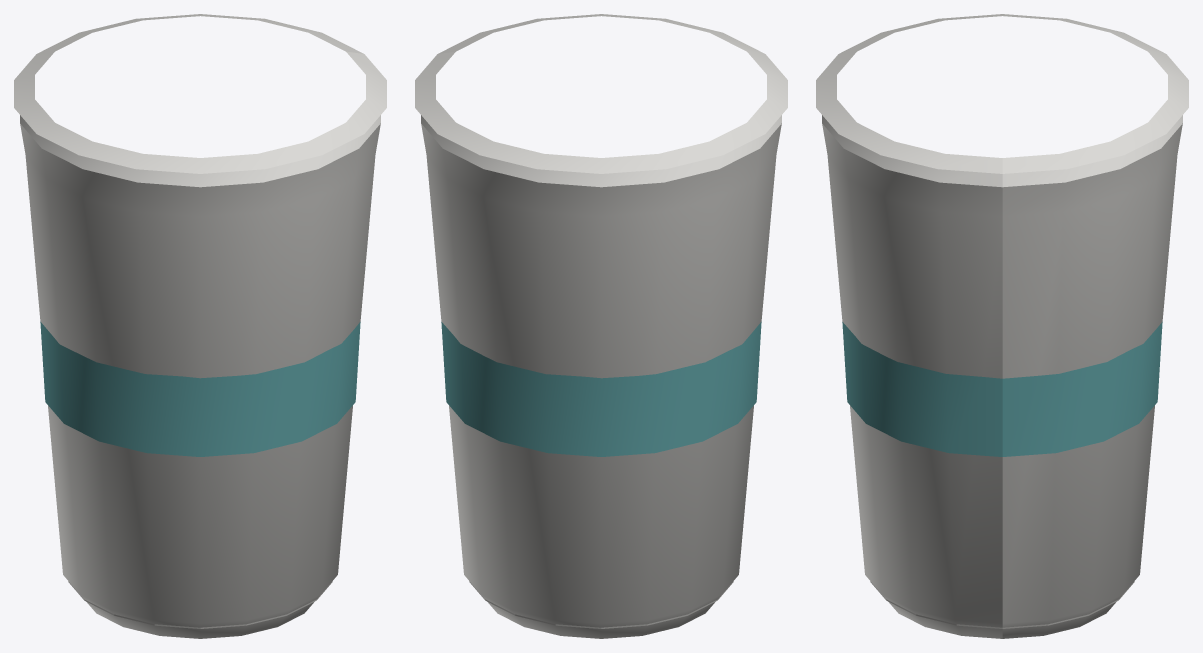
File: cup.glb
The picture shows the model from 3 angles, left to right: view 1: azimuth 30°, elevation 25°; view 2: azimuth 150°, elevation 25°; view 3: azimuth 270°, elevation 25°; orthographic projection.
Visible parts, largest first — view 1: drinks-cup-small; view 2: drinks-cup-small; view 3: drinks-cup-small.
Boxes of the visible parts, box(x1,y1,x2,y2) form: drinks-cup-small: box(14, 14, 386, 638); drinks-cup-small: box(415, 14, 787, 638); drinks-cup-small: box(816, 14, 1188, 638).
Size of the model in its own units: 0.0868 by 0.1268 by 0.0855.
